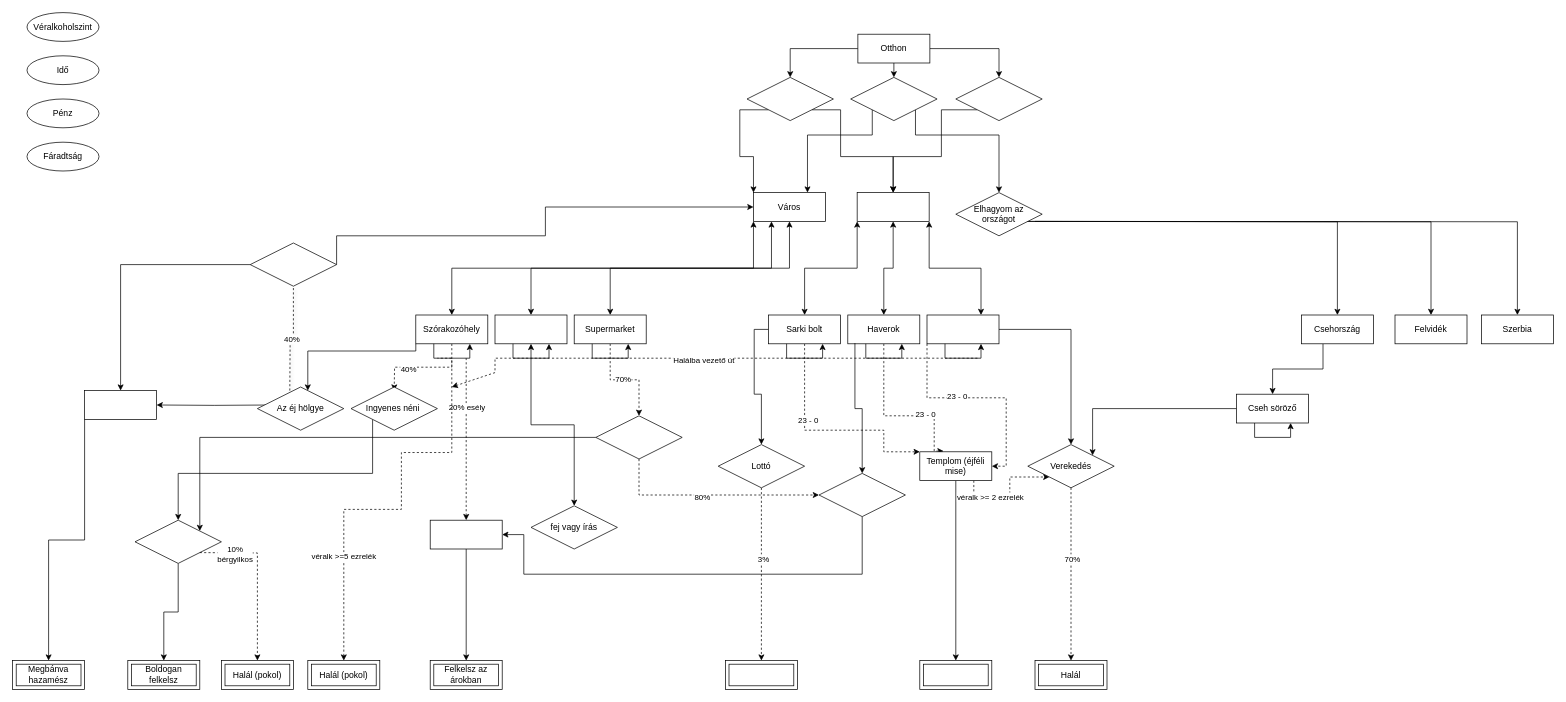
The diagram is 1566 pixels wide and 702 high, and some of its shapes have lost their labels. Each missing label, with the centre of its shape:
"Bicikli" goes at (x=998, y=99).
"Busz" goes at (x=789, y=99).
"Cigiszagú panel" goes at (x=120, y=404).
"Falu" goes at (x=892, y=206).
"Falusi kocsma" goes at (x=962, y=329).
"Fantáziavilág (5 hely)" goes at (x=465, y=534).
"Hazamész" goes at (x=955, y=674).
"Hazaviszed" goes at (x=177, y=541).
"Kocsi" goes at (x=893, y=99).
"Kocsma" goes at (x=530, y=329).
"Milliárdos leszel" goes at (x=761, y=674).
"Talákozol egy alter lánnyal" goes at (x=638, y=437).
"Thai férfi" goes at (x=293, y=264).
"Vicces gomba" goes at (x=861, y=495).
